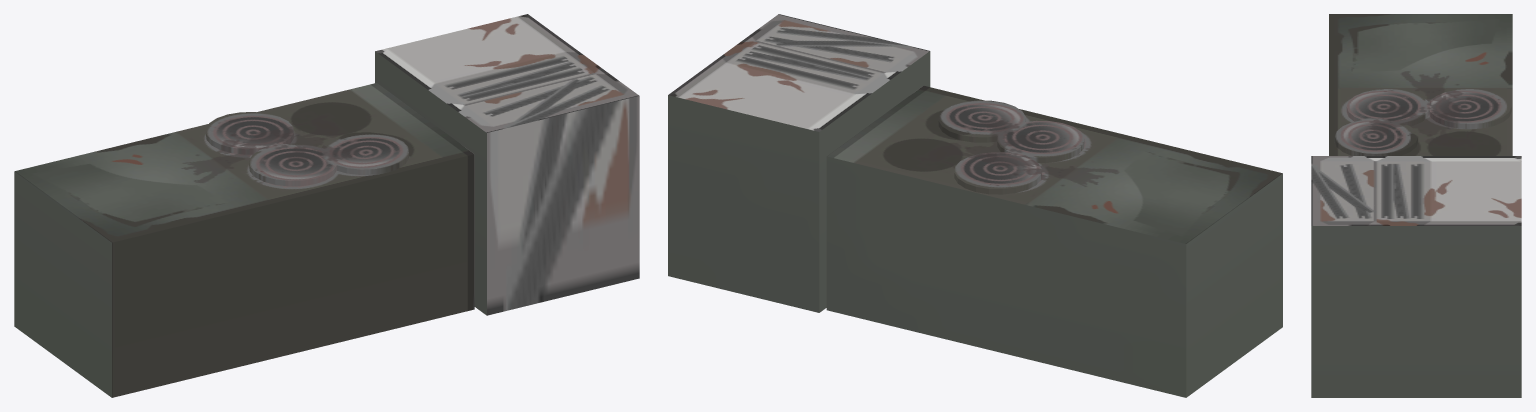
The model's file is Building_AncientTableStoveElectric.glb.
3 views of the same model, side by side, from view 1: azimuth 30°, elevation 25°; view 2: azimuth 150°, elevation 25°; view 3: azimuth 270°, elevation 25° (orthographic). The views are drawn at different scales.
Parts seen in each view (by area): view 1: AncientTableStoveElectric; view 2: AncientTableStoveElectric; view 3: AncientTableStoveElectric.
Part boxes in pixels (x1=…): AncientTableStoveElectric: x1=14, y1=14, x2=639, y2=397; AncientTableStoveElectric: x1=668, y1=14, x2=1282, y2=397; AncientTableStoveElectric: x1=1311, y1=14, x2=1521, y2=397.
Size of the model in its own units: 2.97 by 1 by 1.11.
1 material, 1 textured.
